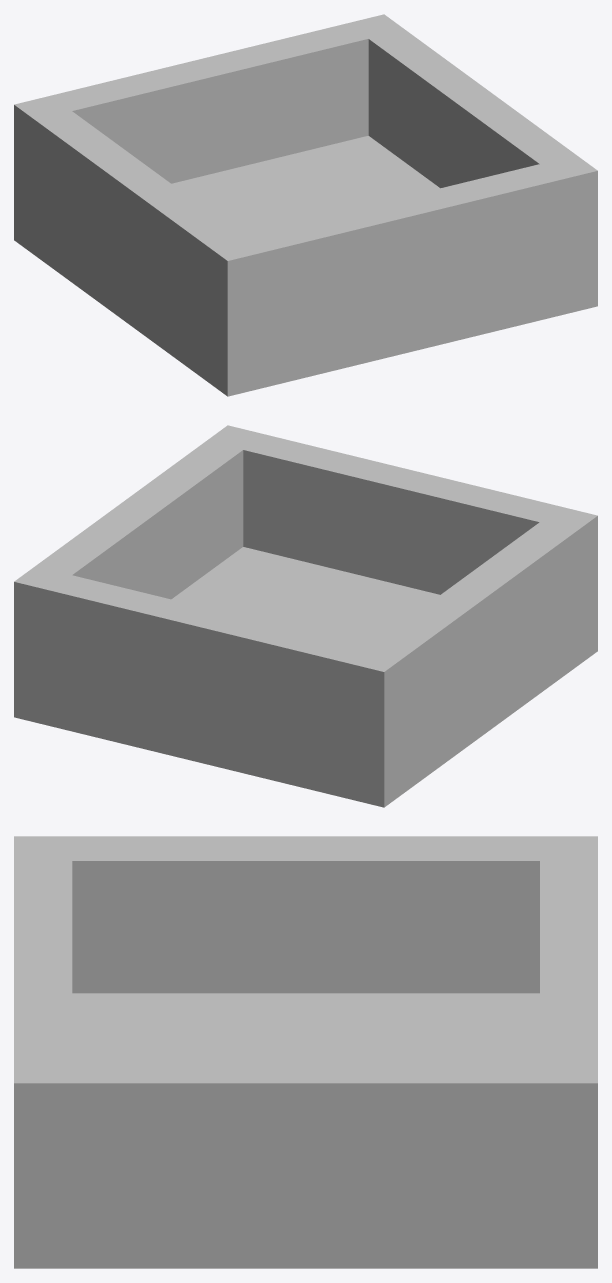
File: MetalRoof_4Edges_Small.glb
3 renders of one model, top to bottom at view 1: azimuth 30°, elevation 25°; view 2: azimuth 150°, elevation 25°; view 3: azimuth 270°, elevation 25°, orthographic. The views are drawn at different scales.
Parts seen in each view (by area): view 1: roof_flat_4Edges_small_metal; view 2: roof_flat_4Edges_small_metal; view 3: roof_flat_4Edges_small_metal.
Part boxes in pixels (box(x1,y1,x2,y2)): roof_flat_4Edges_small_metal: box(14, 14, 597, 396); roof_flat_4Edges_small_metal: box(14, 425, 597, 807); roof_flat_4Edges_small_metal: box(14, 836, 597, 1268).
Size of what is drawn, in the model's own units: 2 by 0.7 by 2.
1 material, 1 textured.
